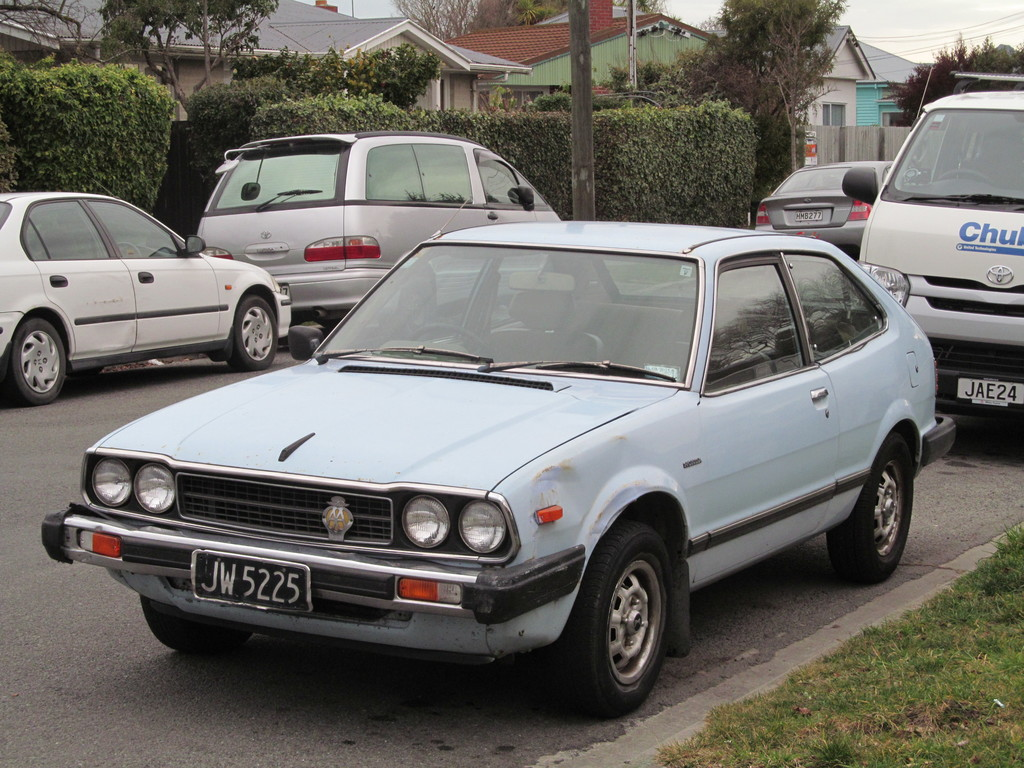Car: (53, 199, 952, 732), (190, 126, 561, 318), (0, 186, 286, 408), (754, 162, 917, 256)
